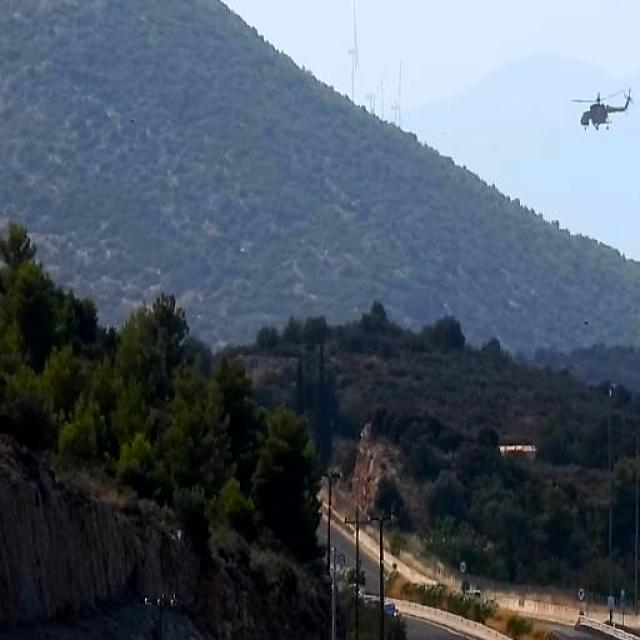drone: (576, 88, 635, 139)
